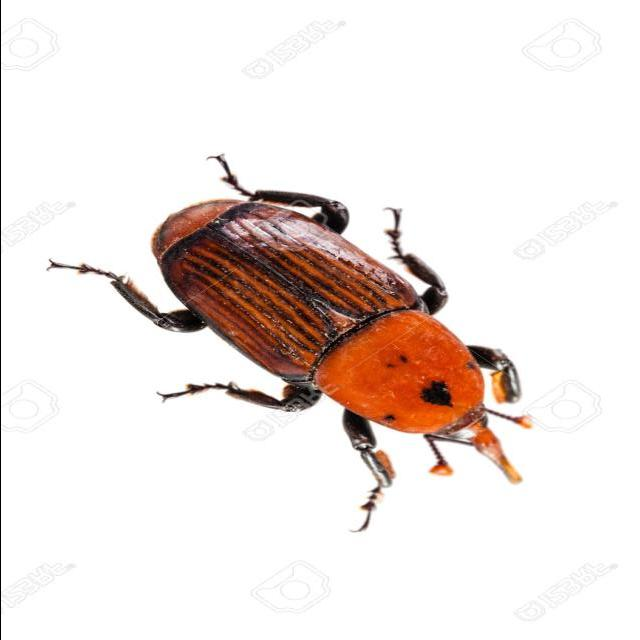Red-palm-weevil: (118, 188, 536, 491)
